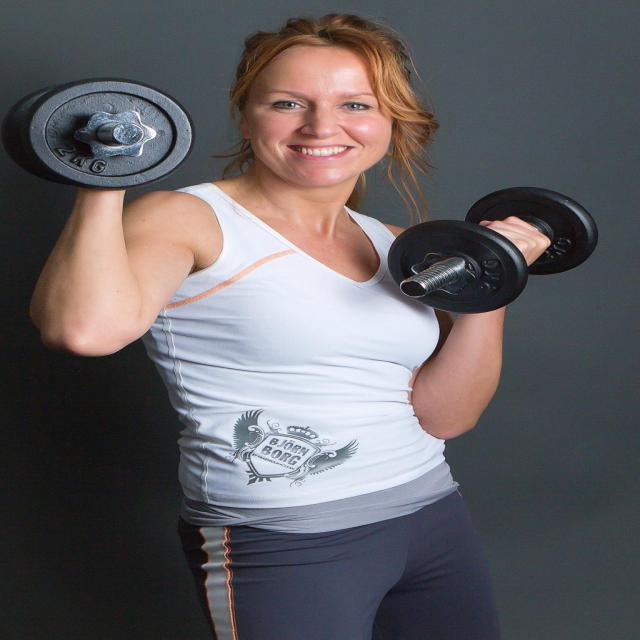Face: (256, 33, 422, 174)
